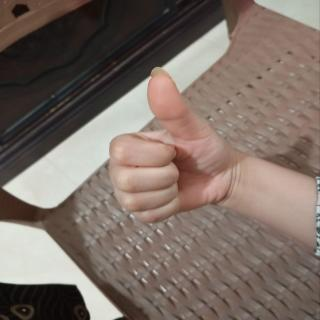ALIF: (105, 61, 252, 234)
